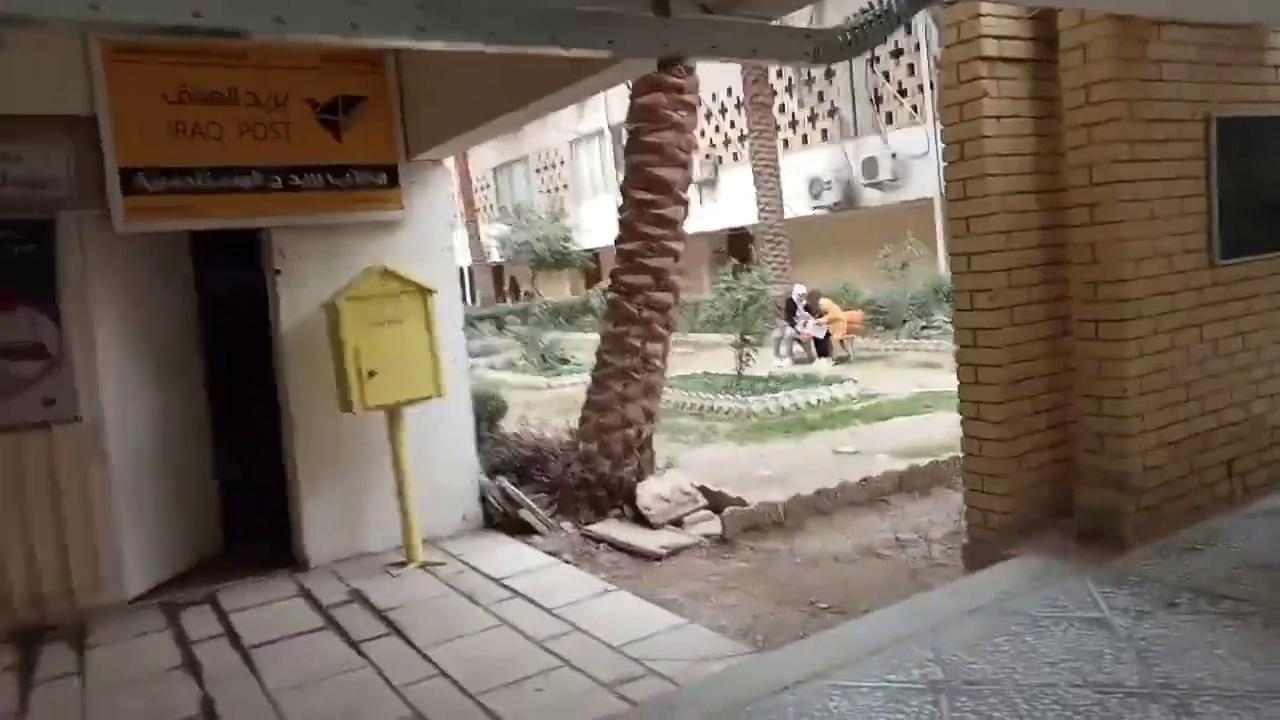person: (771, 282, 818, 367), (805, 288, 852, 363)
tree: (562, 59, 700, 521), (463, 200, 605, 374), (739, 62, 793, 312), (486, 200, 597, 299), (696, 256, 779, 380), (872, 227, 931, 330)
